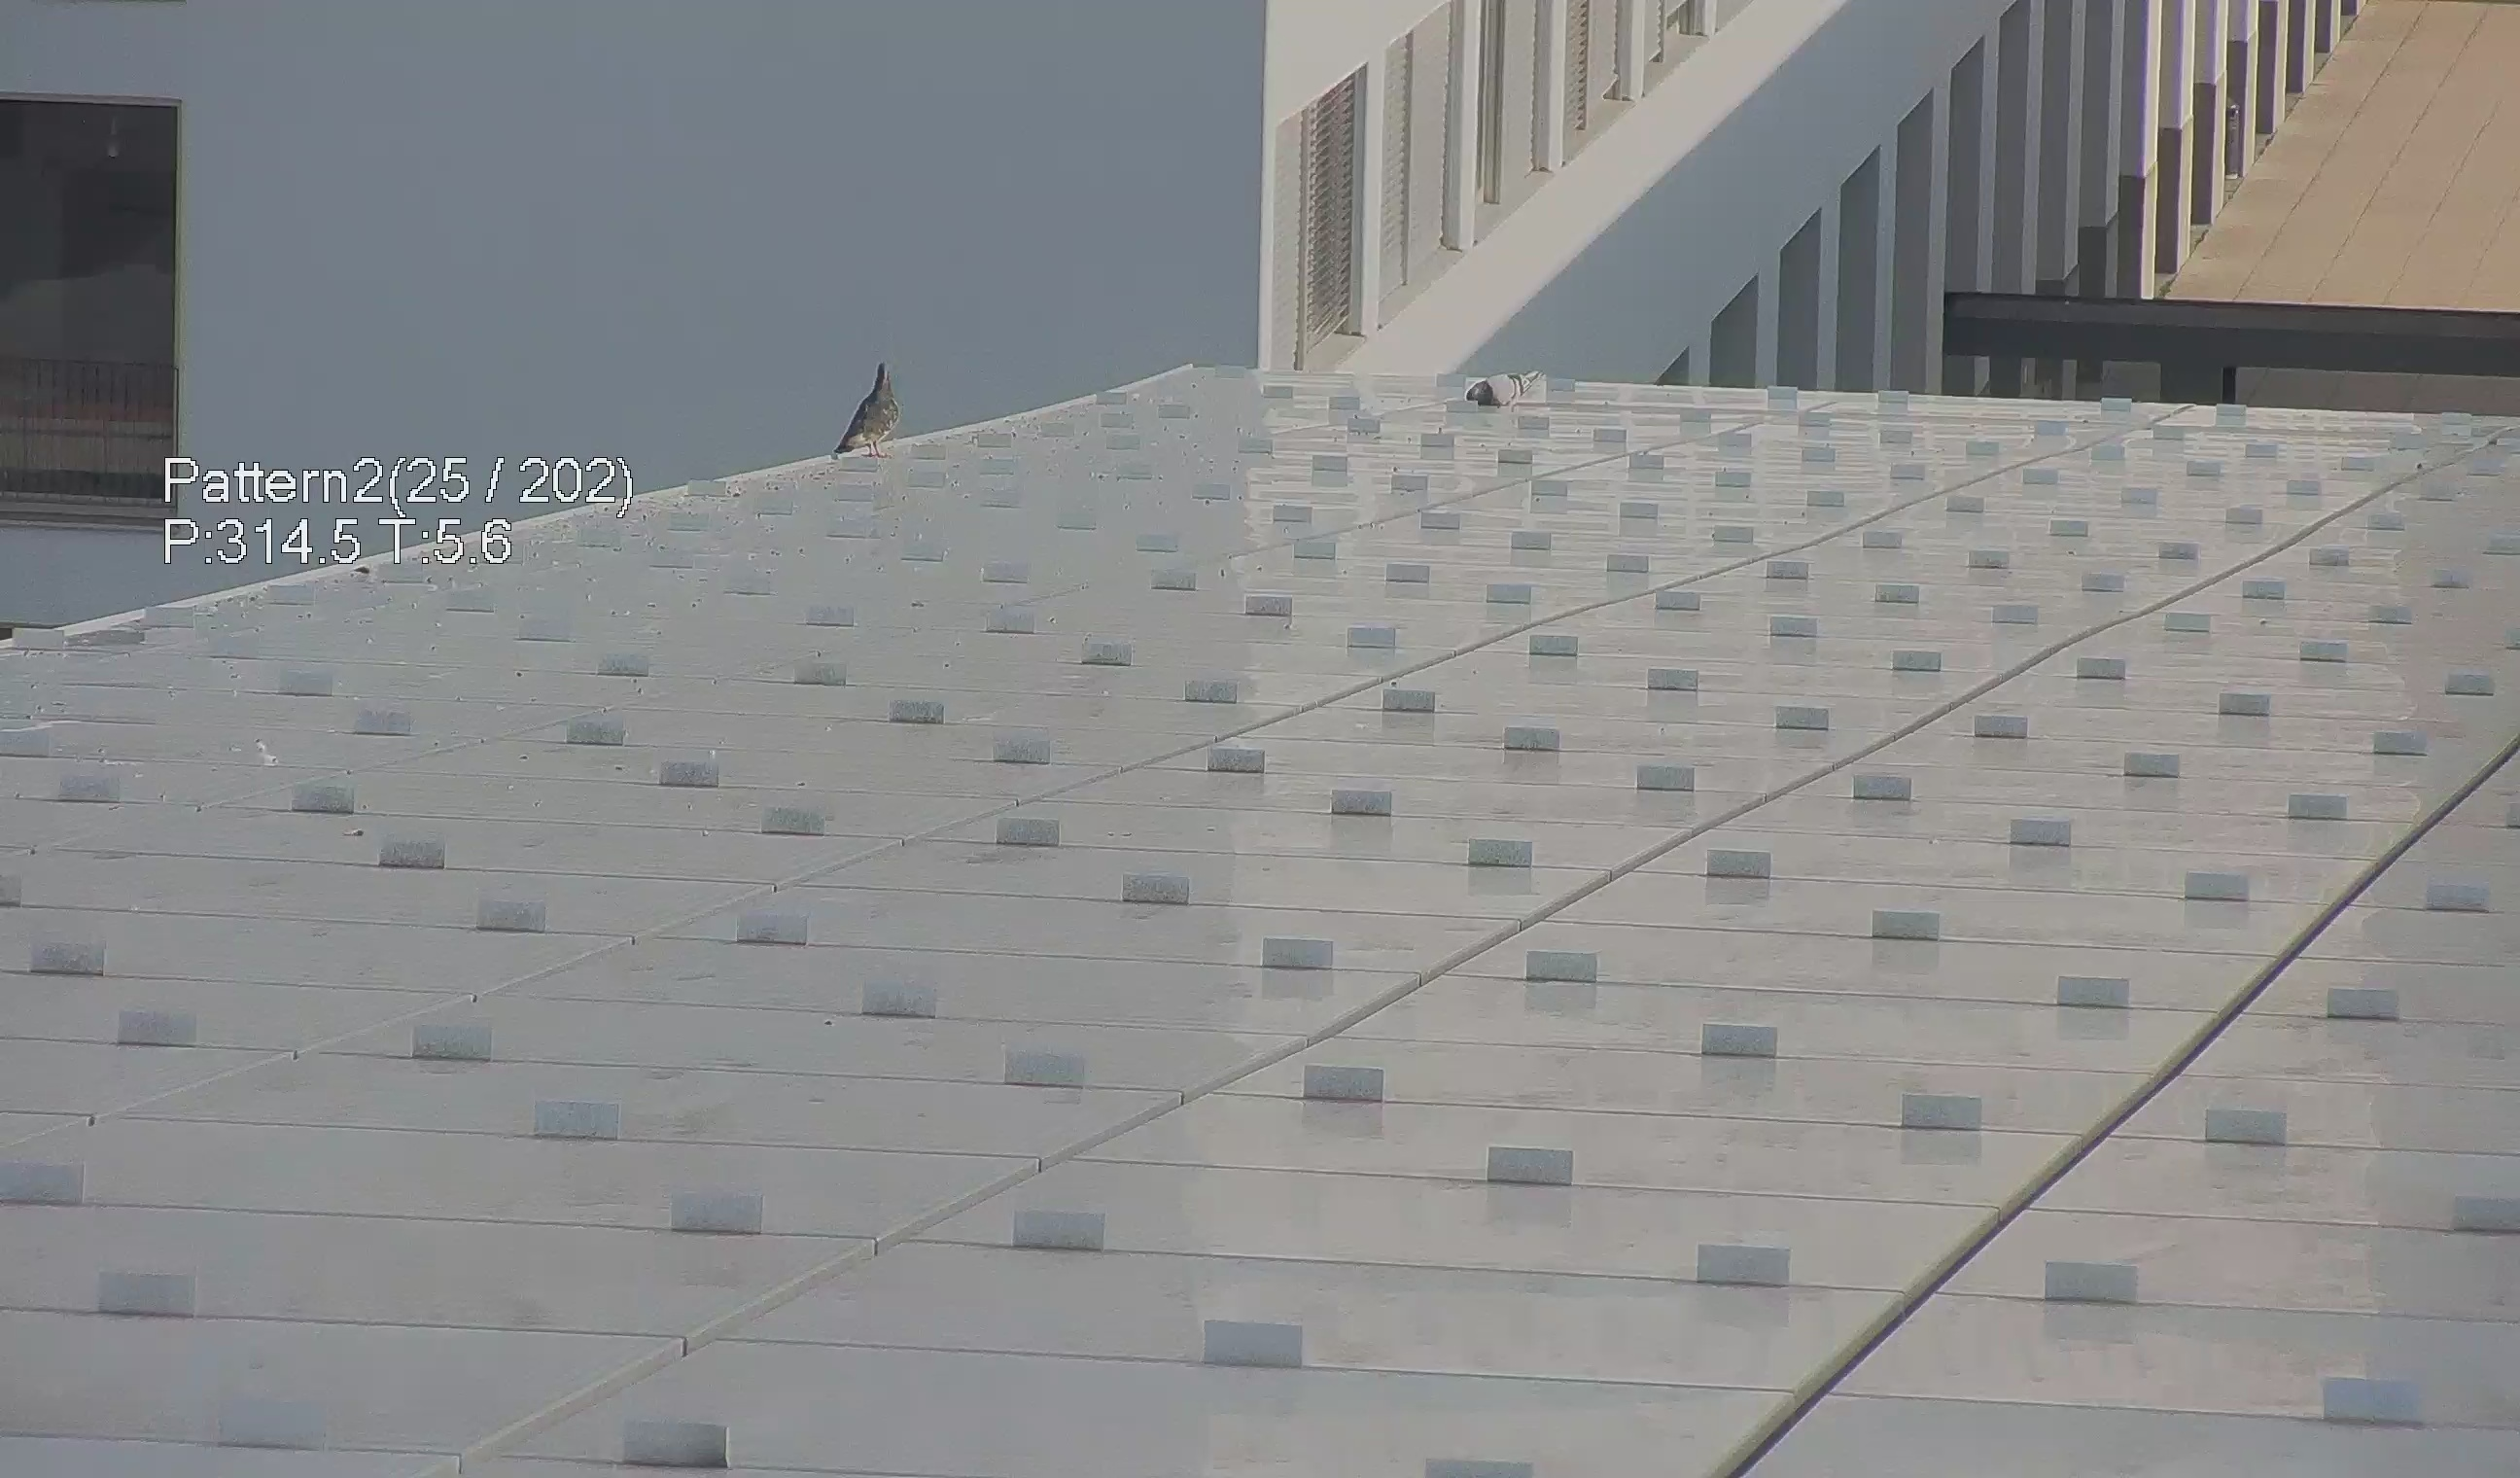Pigeon: (811, 343, 902, 466), (1456, 362, 1548, 413)
